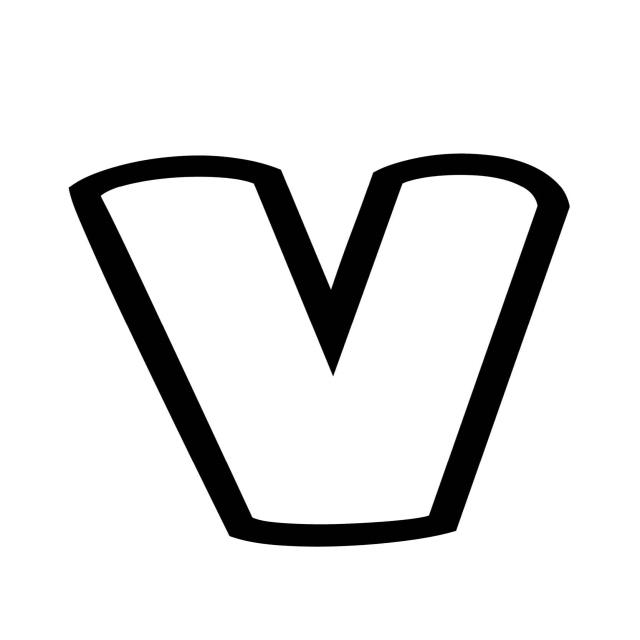V: (32, 110, 590, 624)
